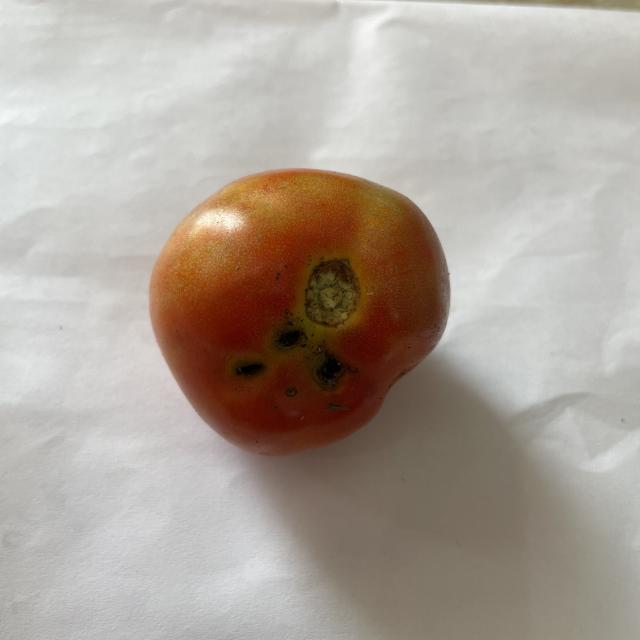fruitworm_bore: (221, 318, 352, 406)
